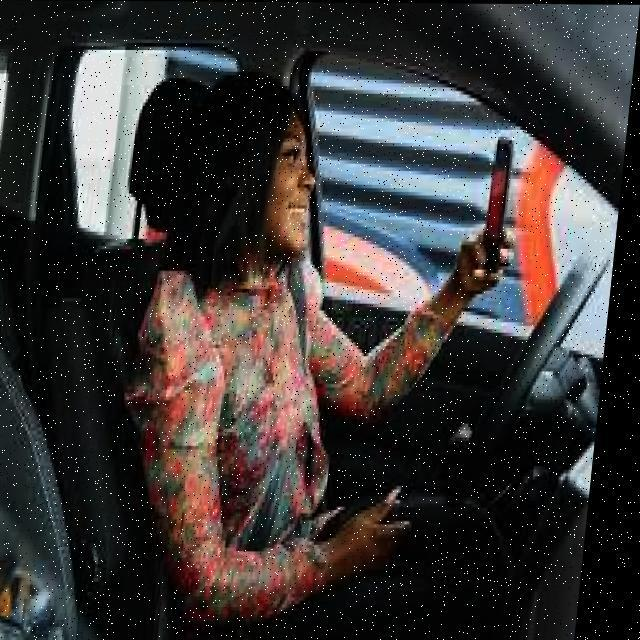seatbelt: (230, 295, 344, 543)
